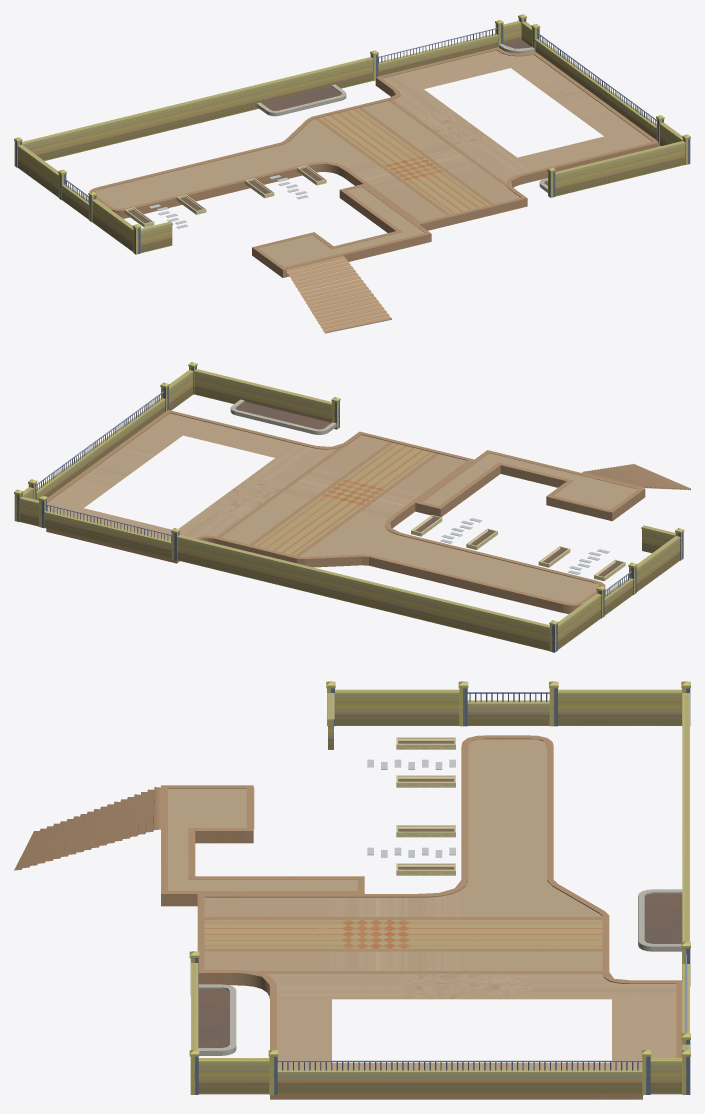
The model's file is objects_un_t02hoteltile01.gltf.
3 views of the same model, one above another, from view 1: azimuth 30°, elevation 25°; view 2: azimuth 150°, elevation 25°; view 3: azimuth 270°, elevation 25° (orthographic). The views are drawn at different scales.
Visible parts, largest first — view 1: um_objects_un_t02hoteltile01_model_lod0Shape:objects_un_t02h (×5), nomerge_objects_un_t02hoteltile01_fence_mesh_shape:objects_u; view 2: um_objects_un_t02hoteltile01_model_lod0Shape:objects_un_t02h (×5), nomerge_objects_un_t02hoteltile01_fence_mesh_shape:objects_u; view 3: um_objects_un_t02hoteltile01_model_lod0Shape:objects_un_t02h (×5), nomerge_objects_un_t02hoteltile01_fence_mesh_shape:objects_u.
Part boxes in pixels (x1,y1,x2,y2): um_objects_un_t02hoteltile01_model_lod0Shape:objects_un_t02h (×5): (89, 40, 659, 333); nomerge_objects_un_t02hoteltile01_fence_mesh_shape:objects_u: (14, 14, 690, 254); um_objects_un_t02hoteltile01_model_lod0Shape:objects_un_t02h (×5): (46, 399, 690, 613); nomerge_objects_un_t02hoteltile01_fence_mesh_shape:objects_u: (14, 362, 684, 652); um_objects_un_t02hoteltile01_model_lod0Shape:objects_un_t02h (×5): (14, 735, 682, 1099); nomerge_objects_un_t02hoteltile01_fence_mesh_shape:objects_u: (189, 681, 690, 1094).
Size of what is drawn, in the model's own units: 51.59 by 5.65 by 39.62.
6 materials, 6 textured.
